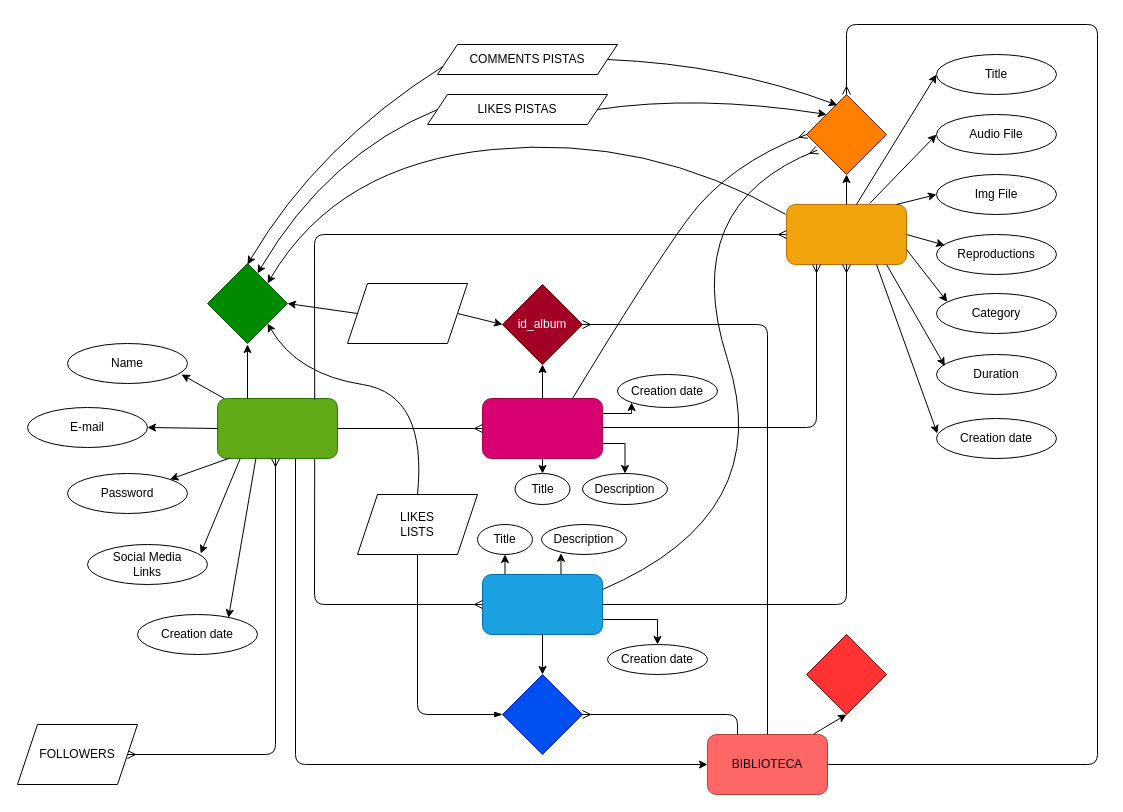
The diagram is 1123 pixels wide and 812 high, and some of its shapes have lost their labels. Here are the shapes that lost their labels. From the top down, the centre of each, then its label:
At [846,134]: "id_pistas".
At [846,234]: "SONG".
At [247,303]: "id_user".
At [407,313]: "LIKES ALBUM".
At [277,428]: "USER".
At [542,428]: "ALBUM".
At [542,604]: "PLAYLISTS".
At [846,674]: "id_biblio".
At [542,714]: "id_lists".
